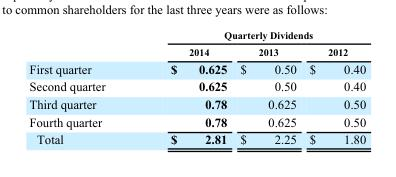table: (28, 28, 365, 146)
table column: (28, 28, 137, 146), (137, 28, 232, 146), (232, 28, 302, 146), (302, 28, 365, 146)
table column header: (28, 28, 365, 59)
table row: (28, 59, 365, 77), (28, 94, 365, 112), (28, 112, 365, 130), (28, 77, 365, 94), (28, 43, 365, 59), (28, 130, 365, 146), (28, 28, 365, 43)
table spanning cell: (137, 28, 365, 43)
